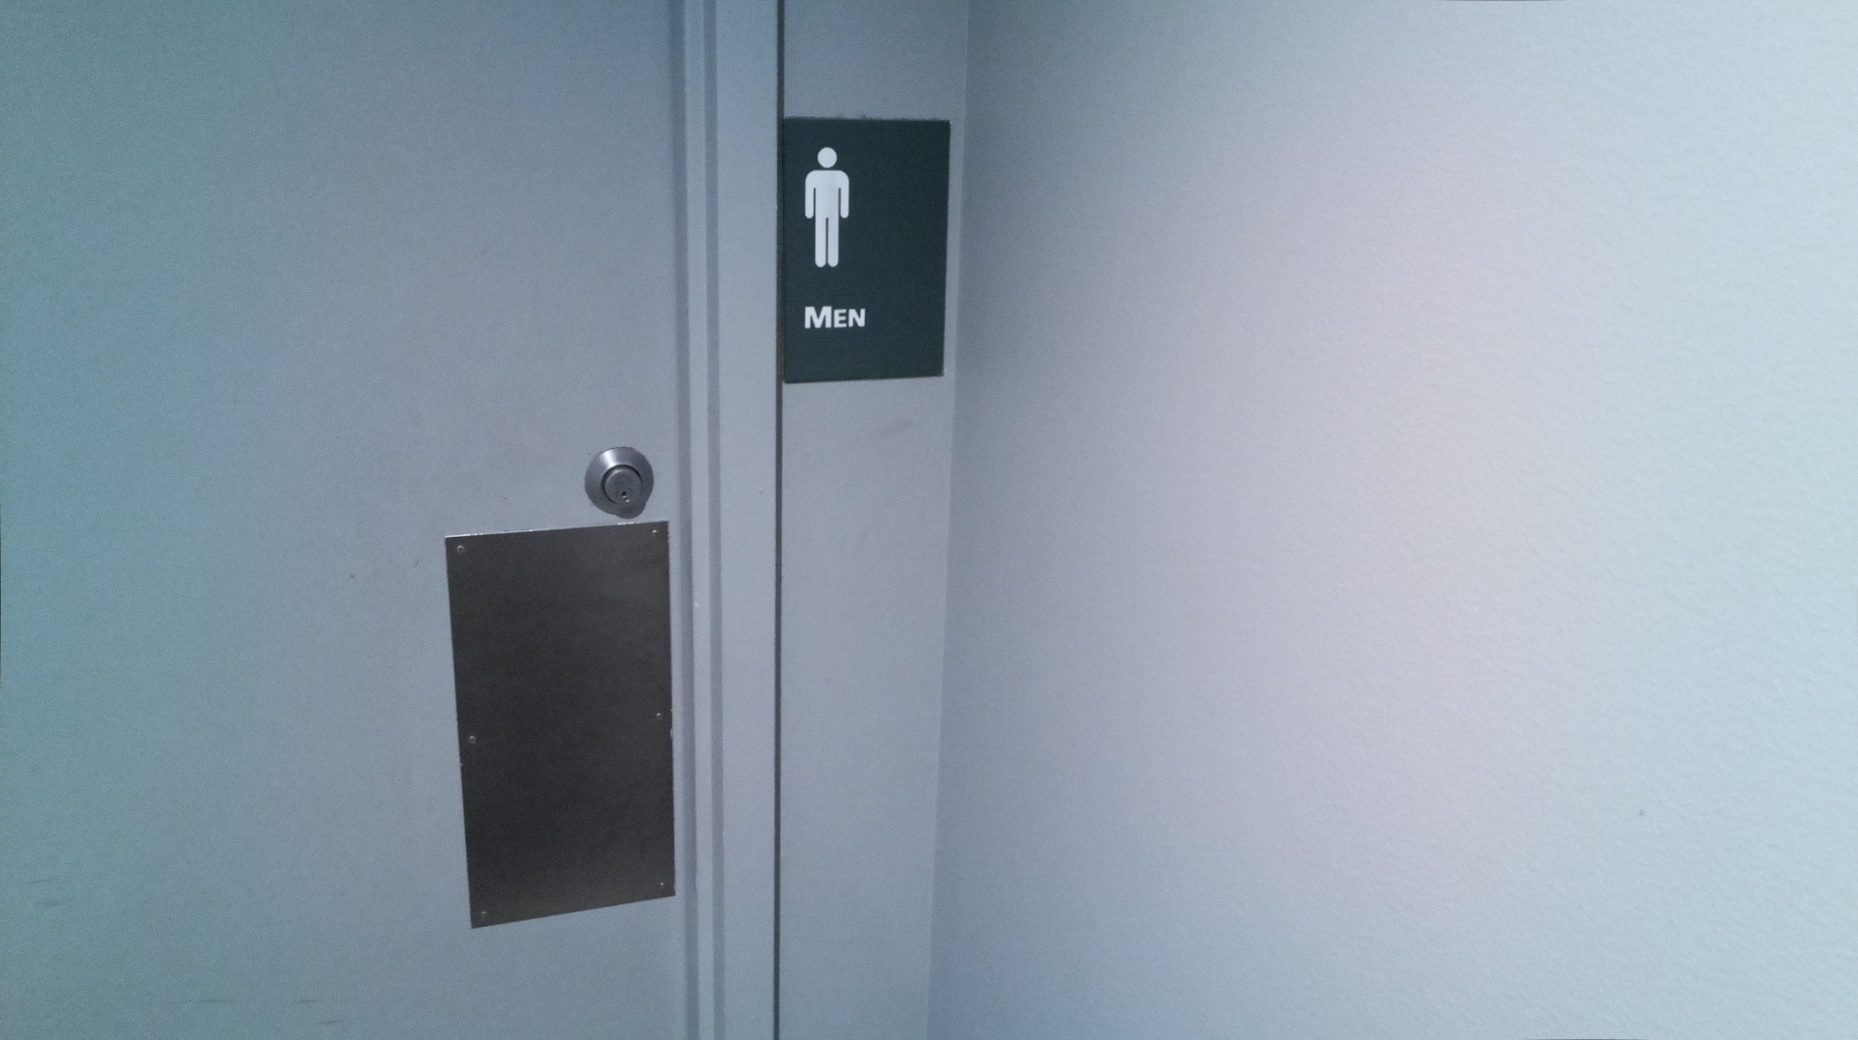bathroom sign: (762, 106, 967, 396)
